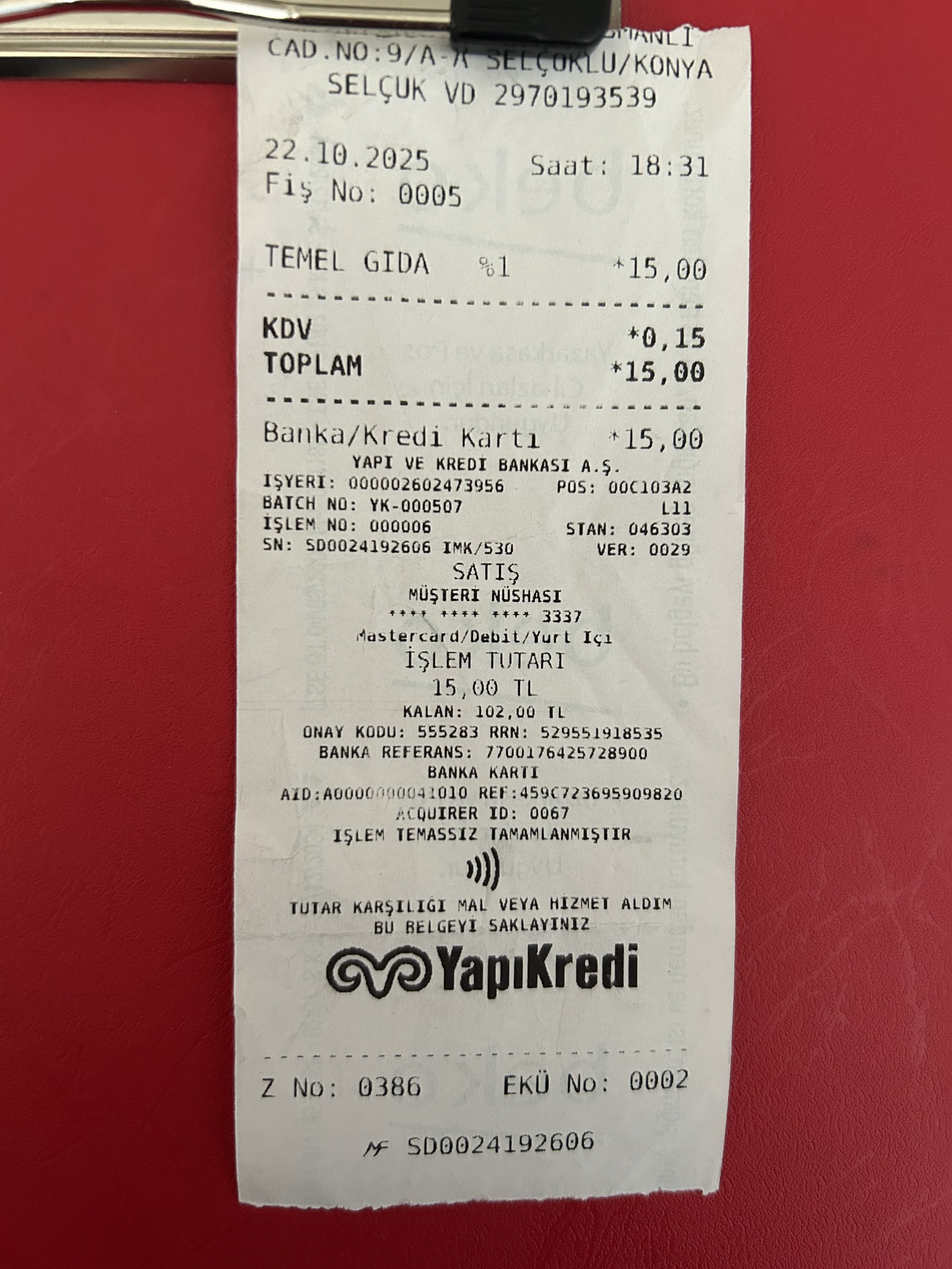date: (615, 355, 716, 394)
price: (253, 130, 435, 178)
workplace: (261, 30, 724, 121)
